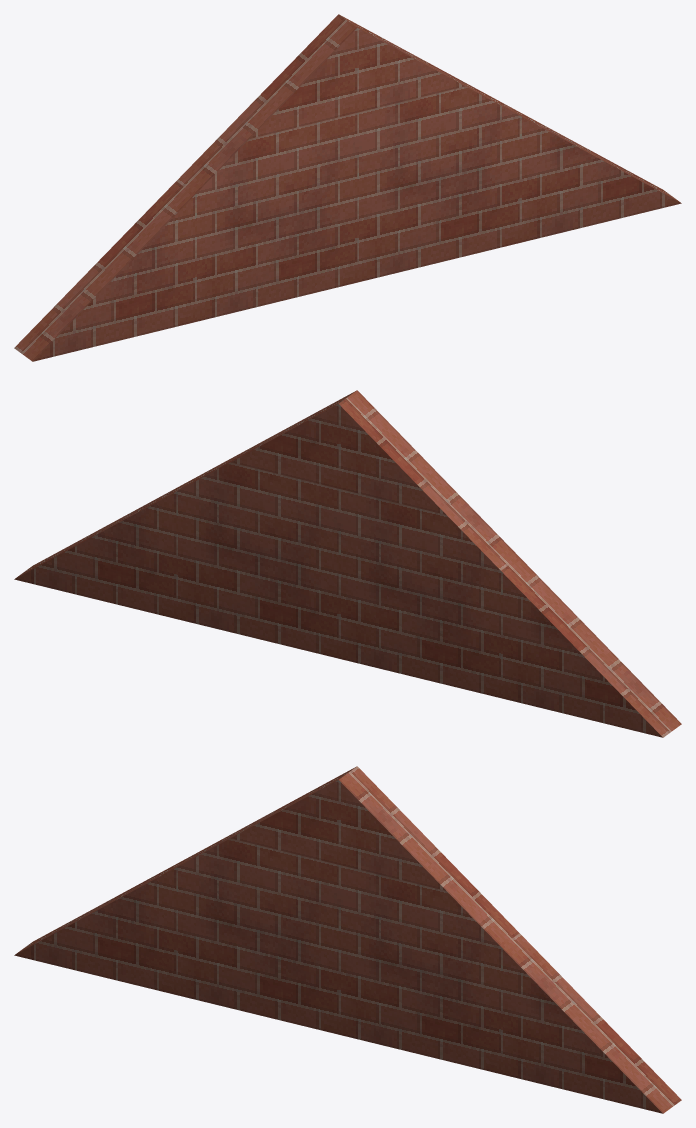
The model's file is wall_gable_brick.glb.
3 views of the same model, one above another, from view 1: azimuth 30°, elevation 25°; view 2: azimuth 150°, elevation 25°; view 3: azimuth 330°, elevation 25° (orthographic).
Parts seen in each view (by area): view 1: wall_gable_brick; view 2: wall_gable_brick; view 3: wall_gable_brick.
Part boxes in pixels (x1,y1,x2,y2): wall_gable_brick: (14, 14, 681, 361); wall_gable_brick: (14, 390, 681, 737); wall_gable_brick: (14, 766, 681, 1113).
Size of the model in its own units: 4 by 1.5 by 0.2.
Materials: 1 (1 with a texture image).
